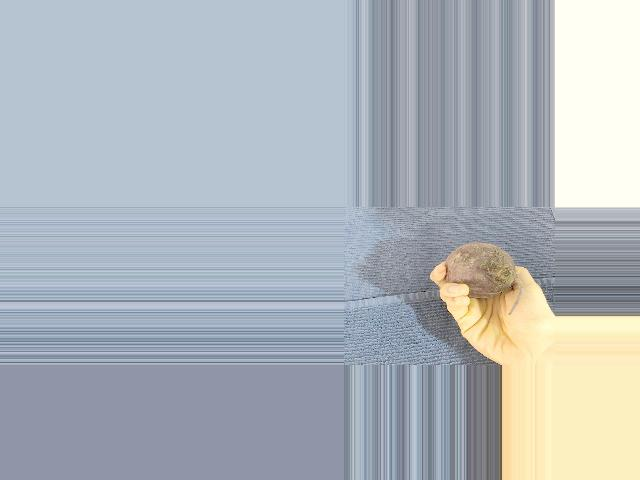beet: (444, 243, 522, 316)
